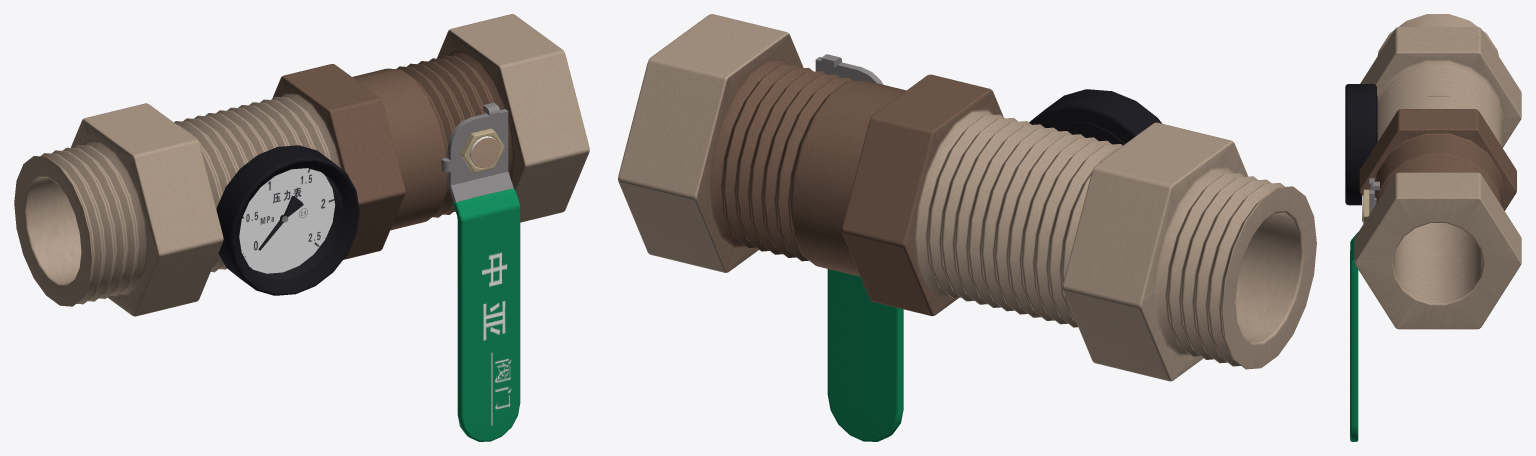
File: moduanshishuizhuangzhi.FBX
The picture shows the model from 3 angles, left to right: view 1: azimuth 30°, elevation 25°; view 2: azimuth 150°, elevation 25°; view 3: azimuth 270°, elevation 25°; orthographic projection. The views are drawn at different scales.
Visible parts, largest first — view 1: polySurface44, polySurface38, polySurface42, polySurface45, polySurface37, polySurface41, polySurface40; view 2: polySurface44, polySurface38, polySurface42, polySurface37; view 3: polySurface44, polySurface42, polySurface38, polySurface37, polySurface40.
Part boxes in pixels (bbox=[...]): polySurface44: bbox=[14, 14, 589, 316]; polySurface38: bbox=[453, 188, 520, 441]; polySurface42: bbox=[216, 145, 359, 295]; polySurface45: bbox=[239, 168, 335, 273]; polySurface37: bbox=[441, 102, 513, 202]; polySurface41: bbox=[469, 136, 499, 168]; polySurface40: bbox=[461, 128, 504, 172]; polySurface44: bbox=[618, 14, 1316, 381]; polySurface38: bbox=[827, 269, 903, 441]; polySurface42: bbox=[1029, 89, 1161, 145]; polySurface37: bbox=[815, 54, 883, 84]; polySurface44: bbox=[1354, 14, 1521, 329]; polySurface42: bbox=[1345, 84, 1377, 205]; polySurface38: bbox=[1350, 232, 1358, 441]; polySurface37: bbox=[1369, 178, 1379, 214]; polySurface40: bbox=[1363, 189, 1369, 223].
Size of the model in its own units: 63.25 by 43.02 by 24.38.
Materials: 3 (1 with a texture image).
